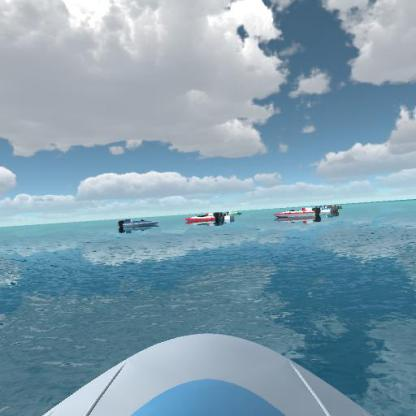usv0: (226, 204, 244, 220)
usv1: (113, 212, 163, 234), (315, 197, 340, 217)
usv3: (270, 204, 323, 224), (184, 207, 226, 228)
